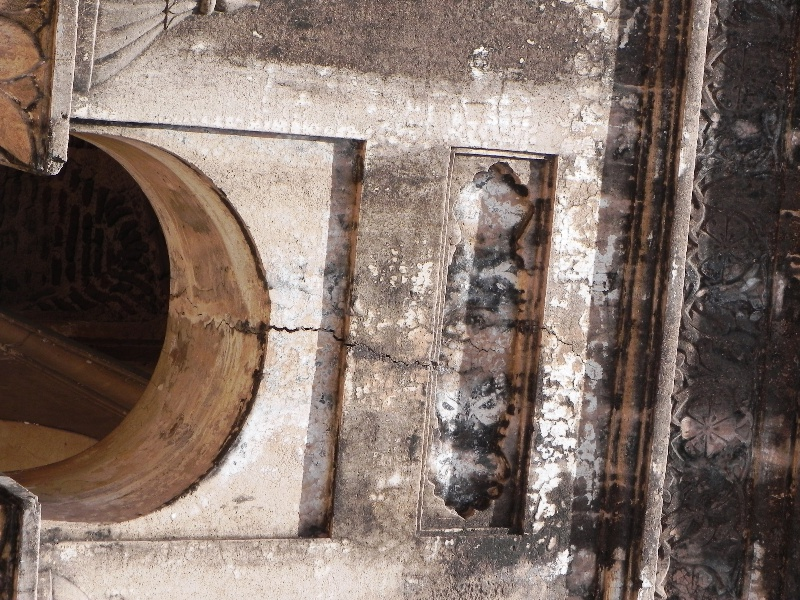Crack: (225, 315, 354, 350)
